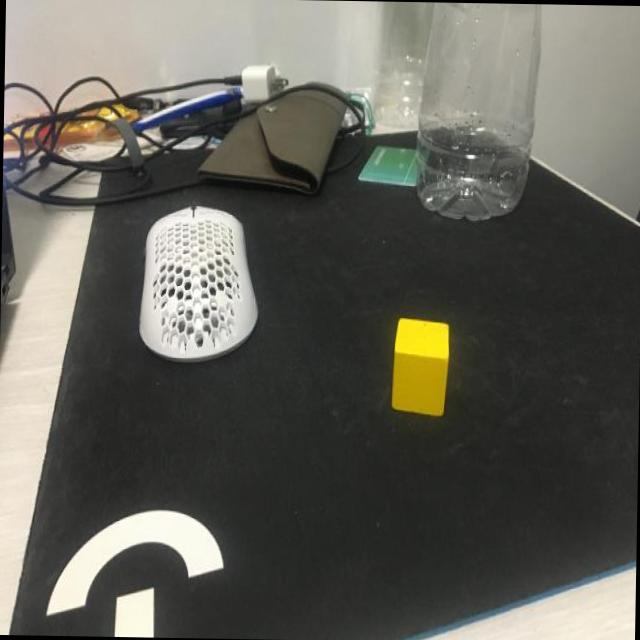yellow: (390, 318, 450, 417)
